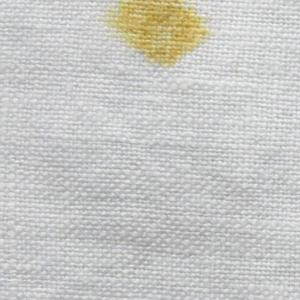Oil Stain: (97, 1, 217, 73)
